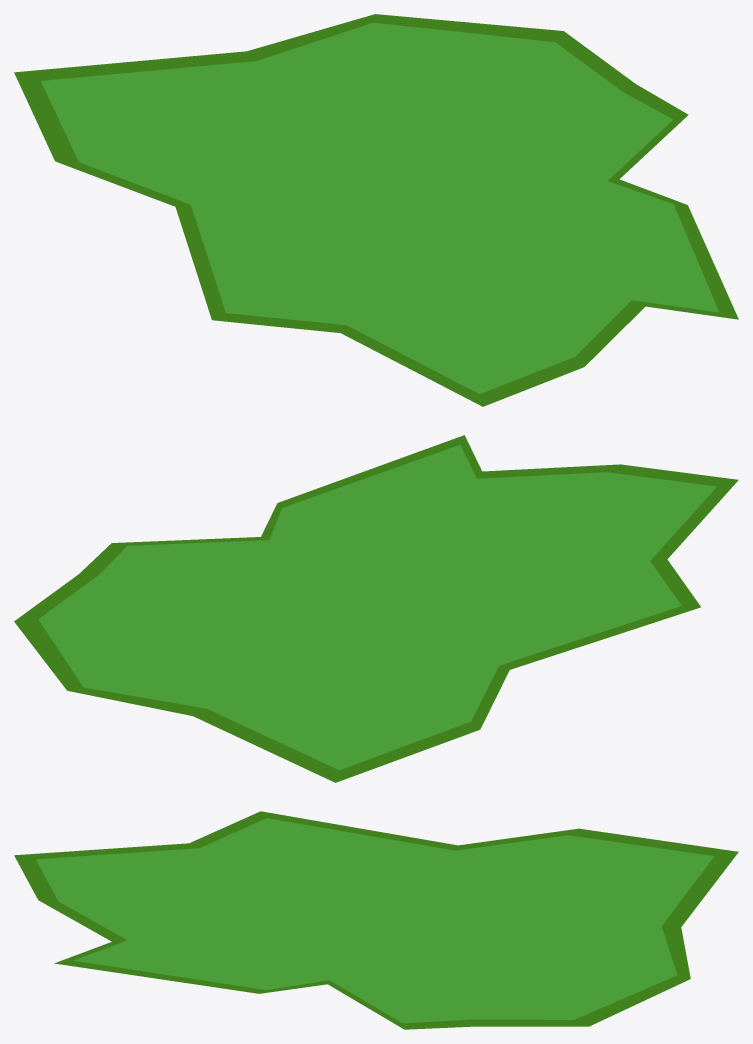
The model's file is ToxicPuddle.fbx.
The picture shows the model from 3 angles, top to bottom: view 1: azimuth 30°, elevation 25°; view 2: azimuth 150°, elevation 25°; view 3: azimuth 270°, elevation 25°; orthographic projection. The views are drawn at different scales.
Visible parts, largest first — view 1: Plane; view 2: Plane; view 3: Plane.
Part boxes in pixels (x1,y1,x2,y2): Plane: (14,14,738,406); Plane: (14,435,738,782); Plane: (14,811,738,1029).
Size of the model in its own units: 195 by 4.45e-05 by 273.
